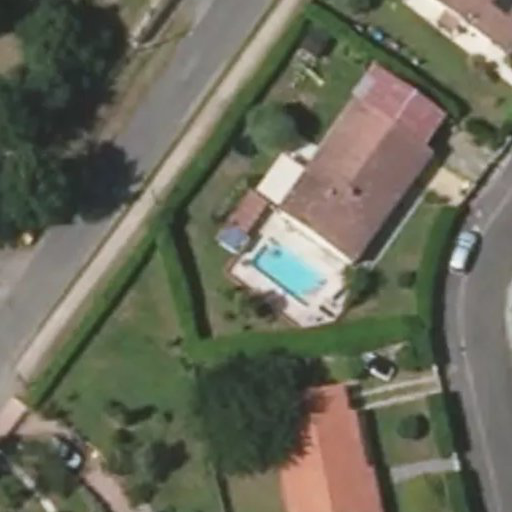pool: (215, 232, 296, 251)
